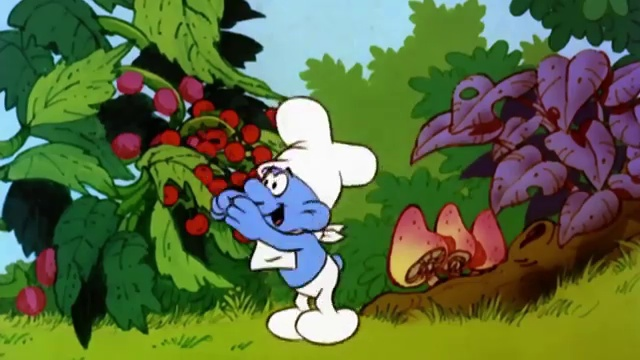smurf: (209, 93, 377, 345)
